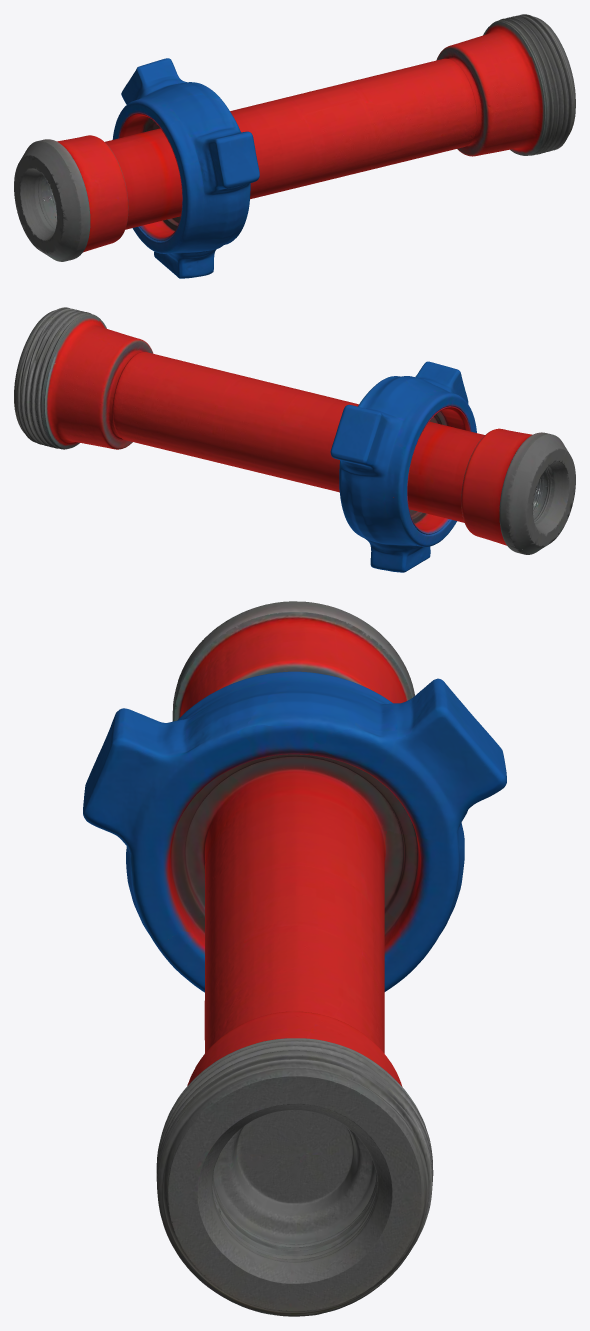
The model's file is tuberia-optimized.glb.
3 renders of one model, top to bottom at view 1: azimuth 30°, elevation 25°; view 2: azimuth 150°, elevation 25°; view 3: azimuth 270°, elevation 25°, orthographic. The views are drawn at different scales.
Visible parts, largest first — view 1: tripo_node_d2829cc1-ab31-4bc4-91e6-f841498814e9; view 2: tripo_node_d2829cc1-ab31-4bc4-91e6-f841498814e9; view 3: tripo_node_d2829cc1-ab31-4bc4-91e6-f841498814e9.
Part boxes in pixels (left/top/right/bottom): tripo_node_d2829cc1-ab31-4bc4-91e6-f841498814e9: left=14, top=14, right=575, bottom=278; tripo_node_d2829cc1-ab31-4bc4-91e6-f841498814e9: left=14, top=307, right=575, bottom=572; tripo_node_d2829cc1-ab31-4bc4-91e6-f841498814e9: left=83, top=601, right=506, bottom=1316.
Bounding box in the file's own units: 0.9782 × 0.3356 × 0.3553.
Materials: 1 (1 with a texture image).
